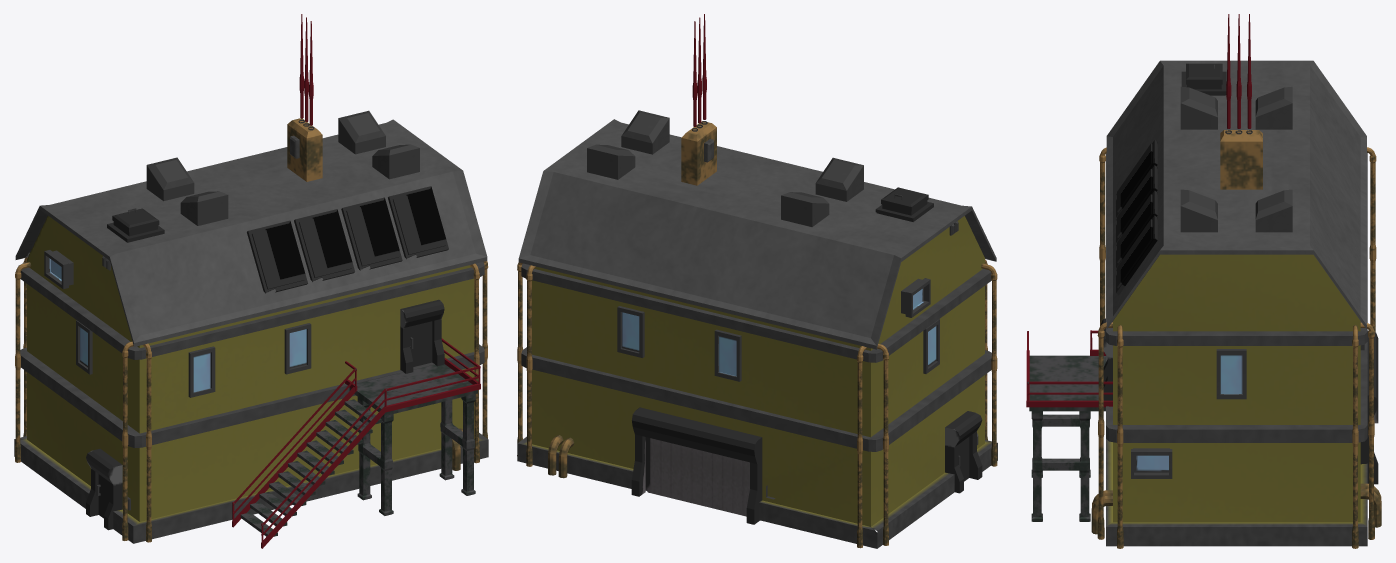
The model's file is Edificio5.fbx.
3 views of the same model, side by side, from view 1: azimuth 30°, elevation 25°; view 2: azimuth 150°, elevation 25°; view 3: azimuth 270°, elevation 25° (orthographic). The views are drawn at different scales.
Parts seen in each view (by area): view 1: LOD_0; view 2: LOD_0; view 3: LOD_0.
Part boxes in pixels (x1=…): LOD_0: x1=14, y1=14, x2=488, y2=548; LOD_0: x1=517, y1=14, x2=997, y2=548; LOD_0: x1=1026, y1=14, x2=1381, y2=548.
Size of what is drawn, in the model's own units: 1711 by 1902 by 1307.
